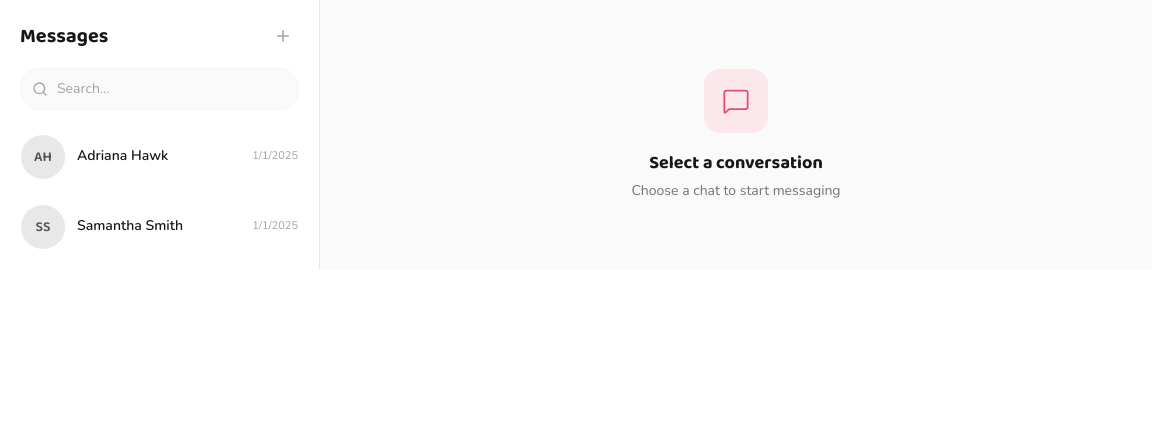
Scenario: Chat › closes contact details when close button is clicked
This screenshot has width=1152, height=442.
// First select a conversation to show details
What coordinates should you click on to do the following:
click the text "Adriana Hawk"
I would click on:
 (123, 156)
Its box is [77,146,168,166].
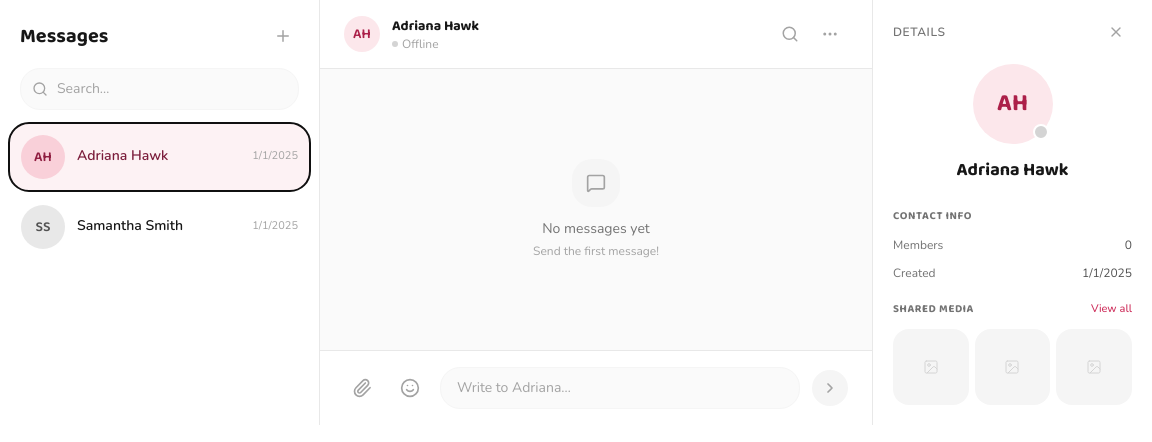
Check: the text "Details" is shown, box [893,24,946,40]
What coordinates should you click on to do the following:
click the button without text next to "Details"
I would click on:
 (1116, 32)
Its box is [1100,16,1132,48].
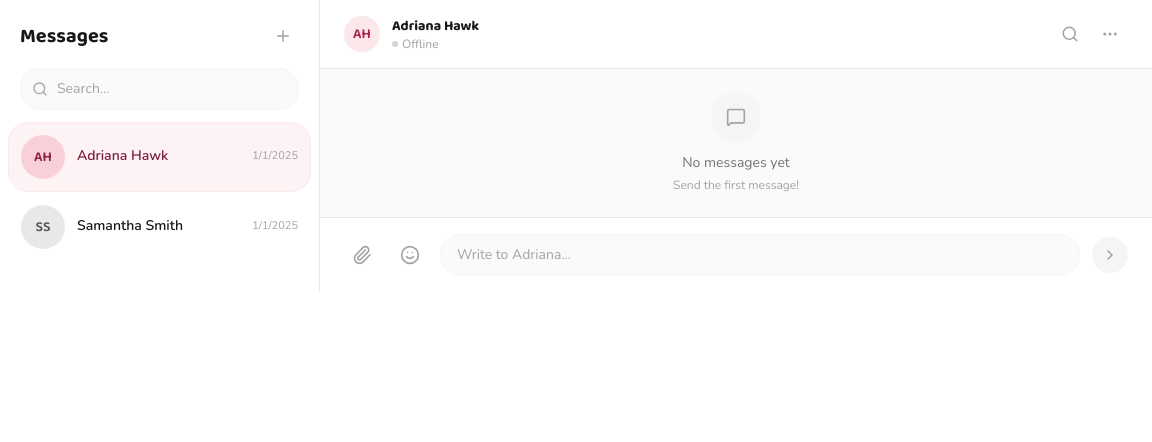
Check: the text "Details" is gone
